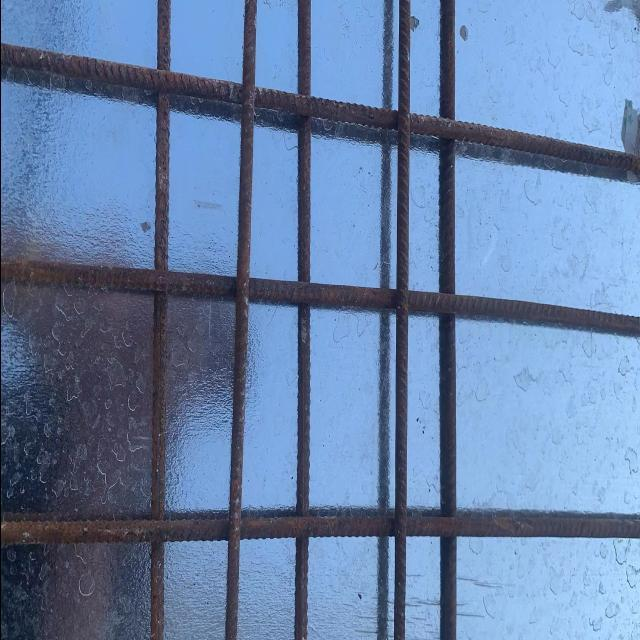ribbed bar: (1, 36, 640, 176), (1, 247, 640, 340), (223, 0, 258, 639), (1, 509, 640, 544), (150, 0, 170, 639), (393, 0, 411, 639), (441, 0, 457, 639), (294, 0, 310, 639)
